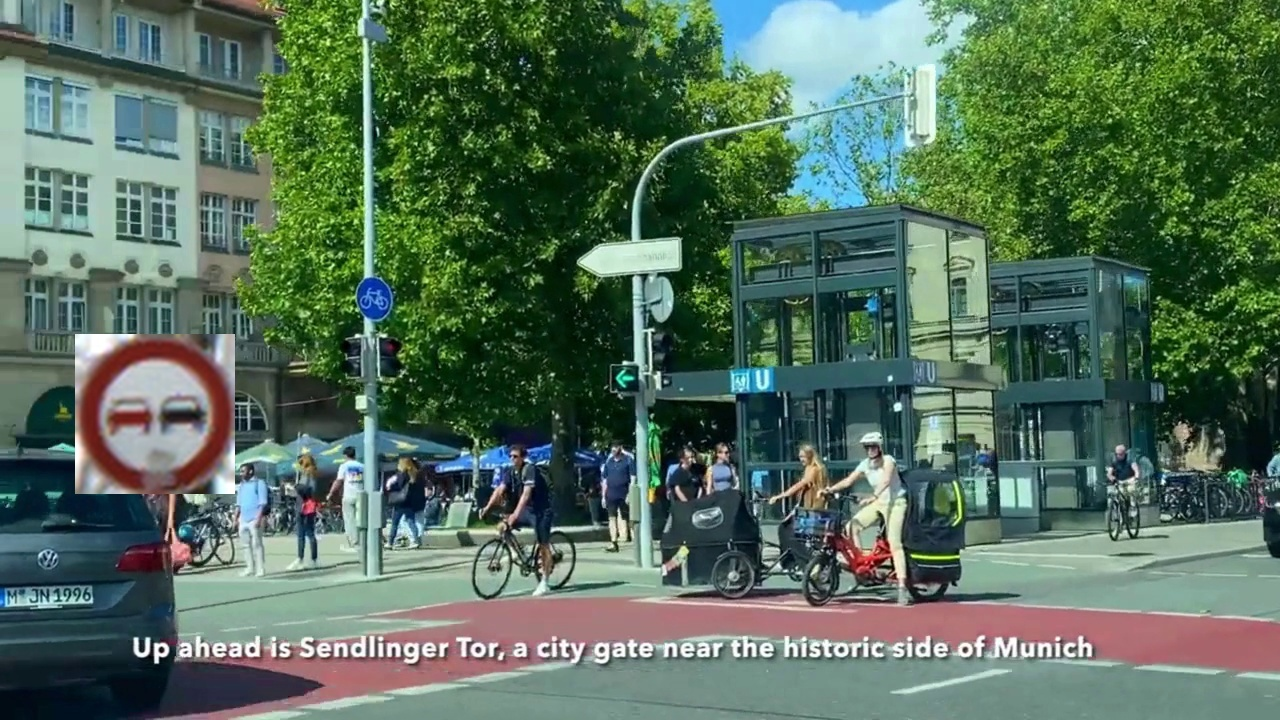No passing: (75, 334, 235, 494)
